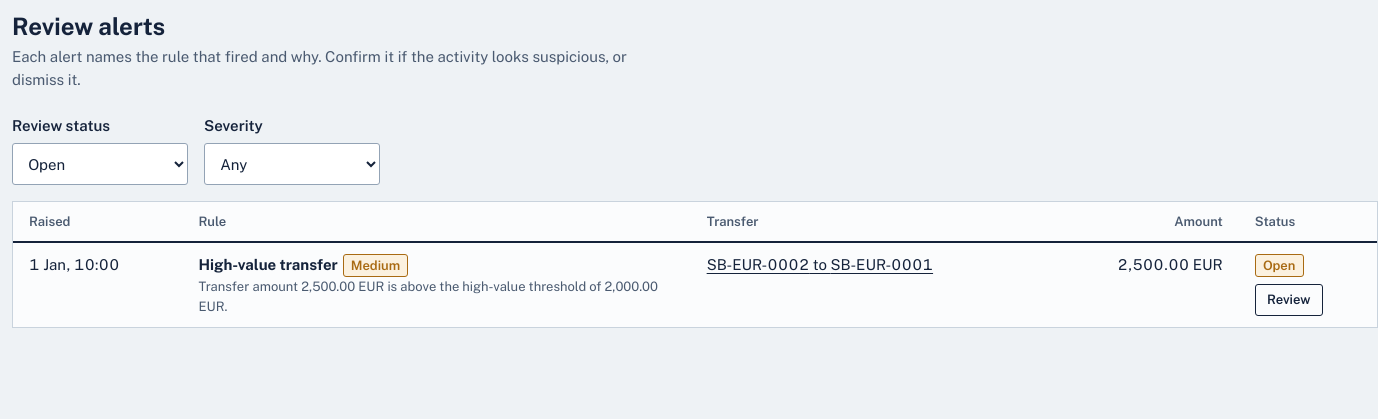
Test: AlertsComponent › shows analysts the open alerts with a review action, and records a decision
This screenshot has width=1378, height=419.
Click the button "Review": point(1289, 300) [1255,284,1323,316]
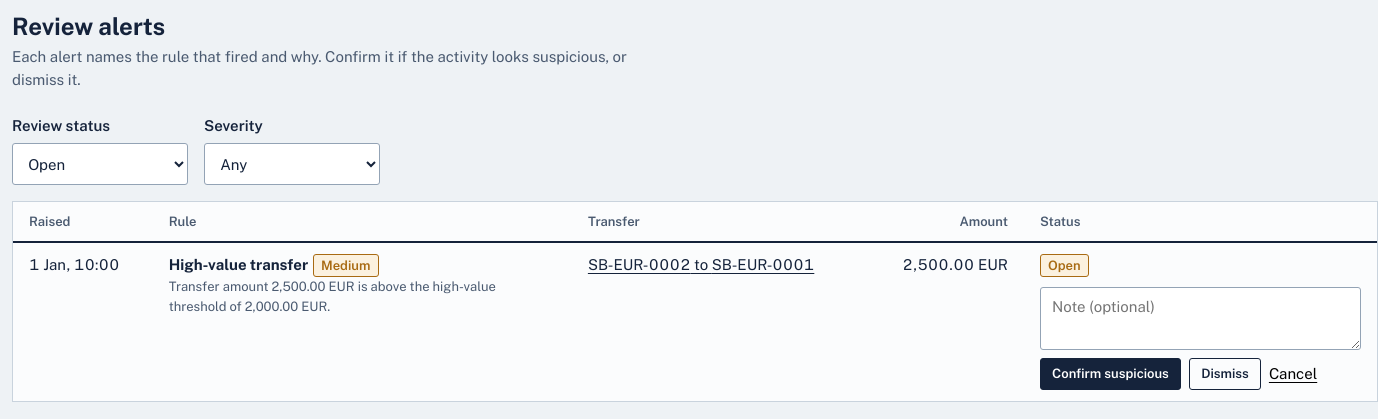
Click the button "Confirm suspicious": point(1110, 374) [1040,358,1181,390]
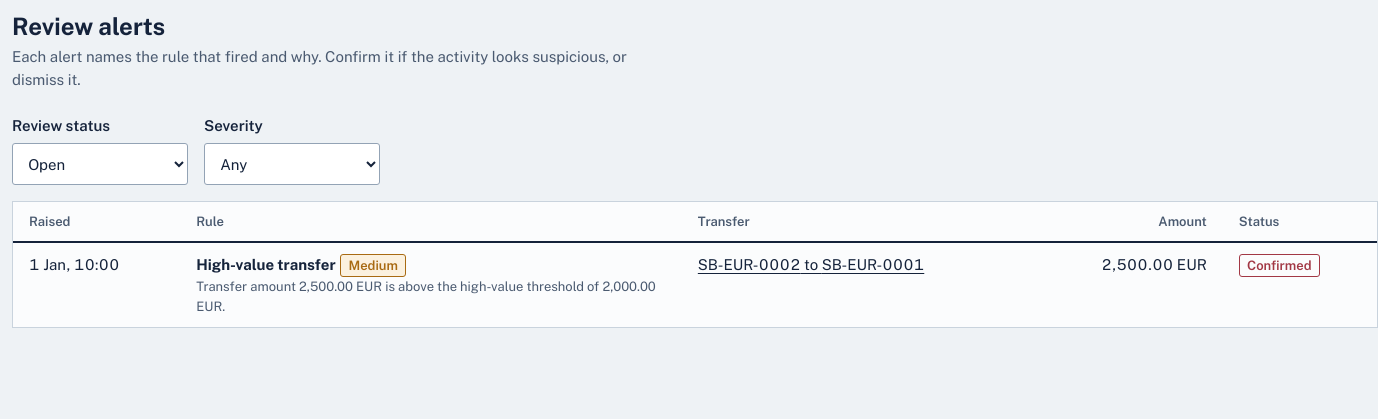
Now the text "Confirmed" is shown, box [1239,254,1320,277]
Now the text "Confirm suspicious" is gone
